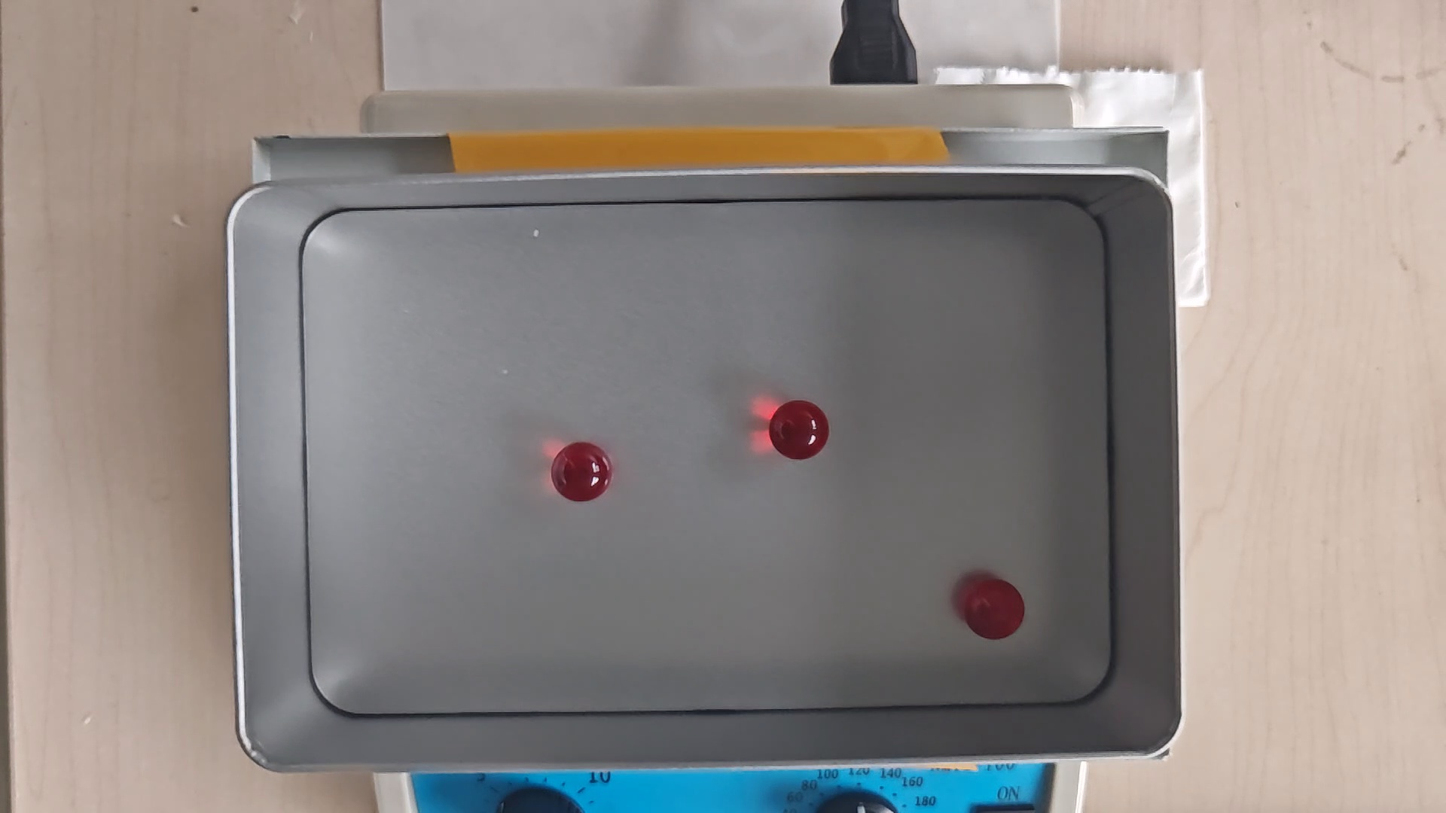ball: (961, 577, 1026, 639), (552, 438, 610, 504), (771, 400, 829, 460)
container: (306, 199, 1110, 713)
